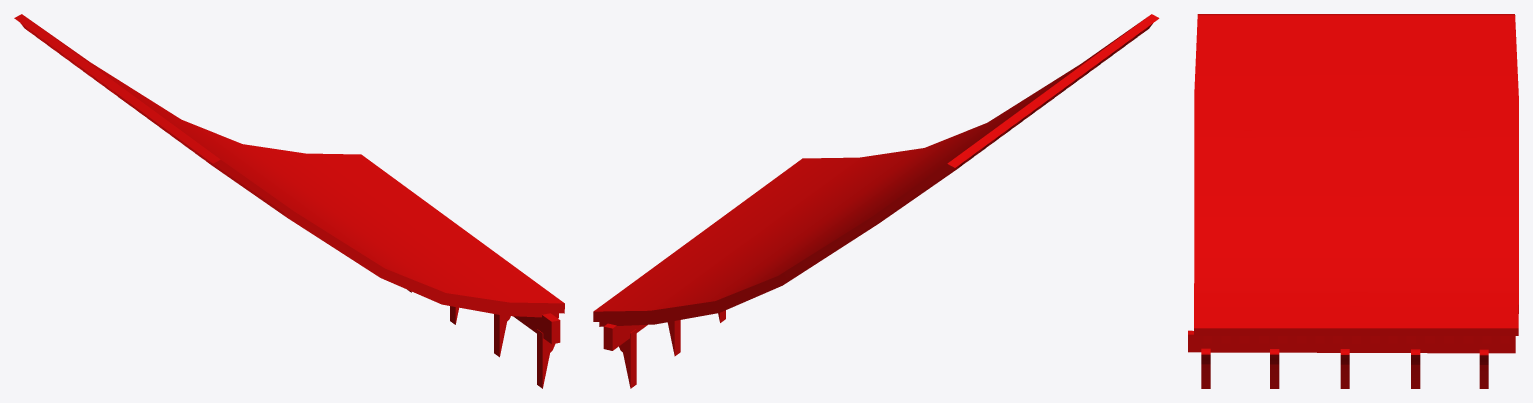
Rendered from final curved castle.fbx.
3 views of the same model, side by side, from view 1: azimuth 30°, elevation 25°; view 2: azimuth 150°, elevation 25°; view 3: azimuth 270°, elevation 25° (orthographic). The views are drawn at different scales.
Parts seen in each view (by area): view 1: final_straight_castle_curved; view 2: final_straight_castle_curved; view 3: final_straight_castle_curved.
Part boxes in pixels (bbox=[...]): final_straight_castle_curved: bbox=[14, 14, 564, 388]; final_straight_castle_curved: bbox=[593, 14, 1159, 388]; final_straight_castle_curved: bbox=[1188, 14, 1518, 388].
Bounding box in the file's own units: 305 × 258 × 313.
